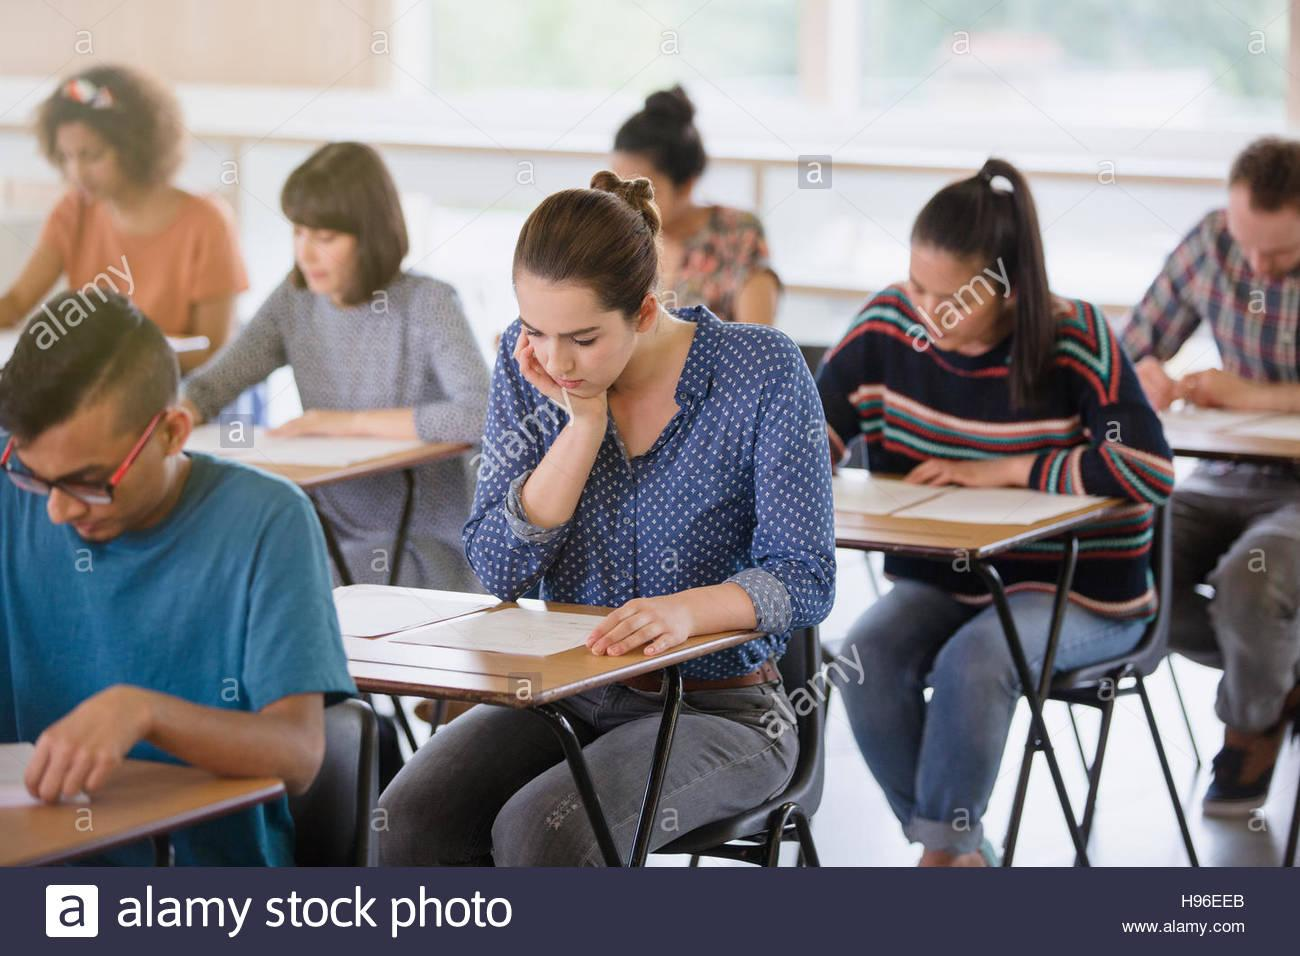student: (354, 144, 897, 698), (1, 297, 343, 841), (816, 140, 1126, 533), (230, 111, 520, 477), (1038, 92, 1300, 403), (628, 71, 913, 330)
